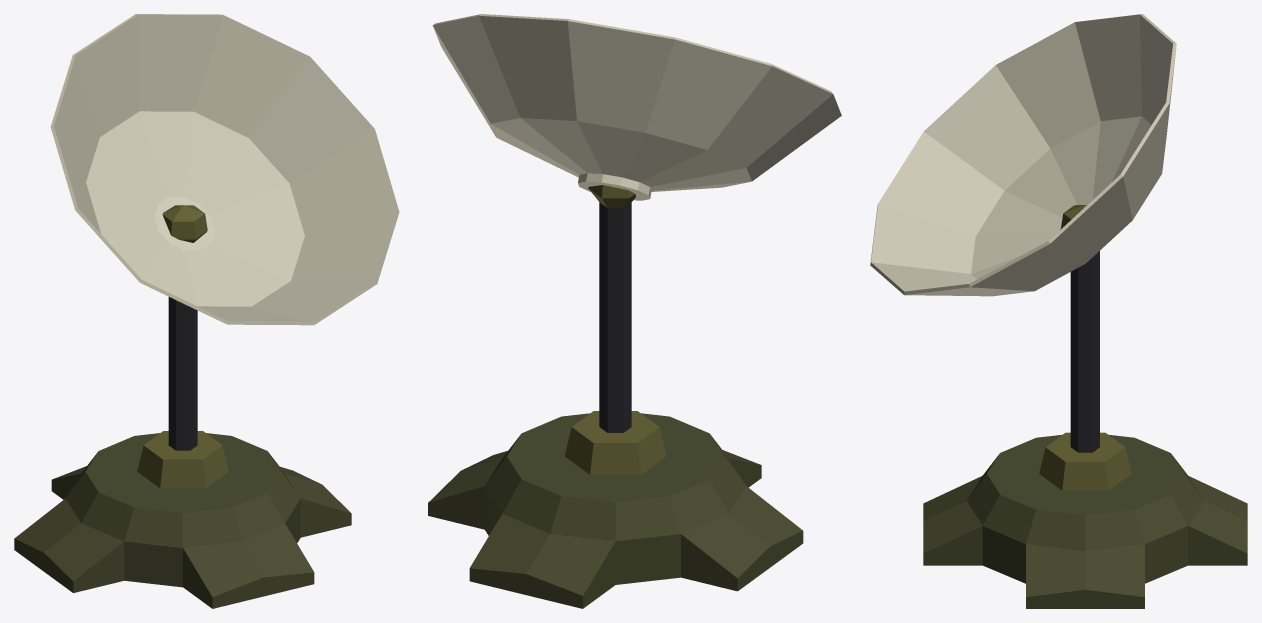
Rendered from LPWarPack_Beacon.fbx.
3 views of the same model, side by side, from view 1: azimuth 30°, elevation 25°; view 2: azimuth 150°, elevation 25°; view 3: azimuth 270°, elevation 25° (orthographic). The views are drawn at different scales.
Parts seen in each view (by area): view 1: Beacon; view 2: Beacon; view 3: Beacon.
Boxes of the visible parts, <box> form: Beacon: <box>14,14,399,608</box>; Beacon: <box>428,14,841,608</box>; Beacon: <box>870,14,1247,608</box>.
Bounding box in the file's own units: 105 × 151 × 104.
